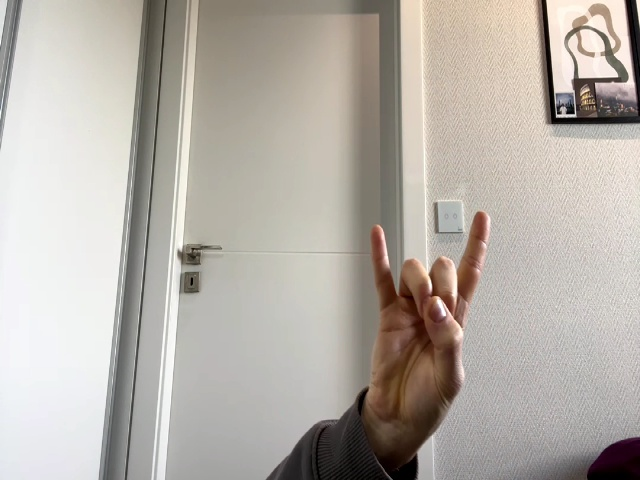Y: (371, 212, 491, 402)
